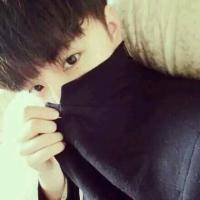face: (20, 14, 113, 125)
